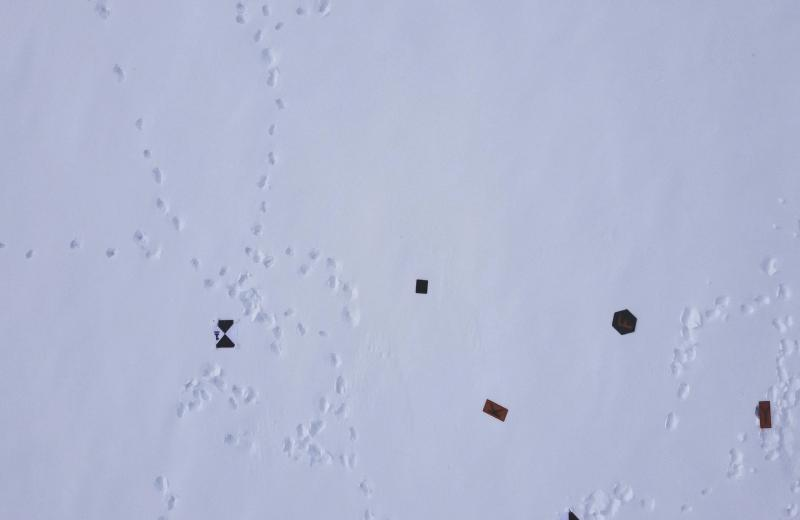Hexagon: (611, 306, 641, 342)
Rectangle: (480, 391, 509, 425), (748, 396, 777, 428)
Square: (410, 276, 432, 300)
